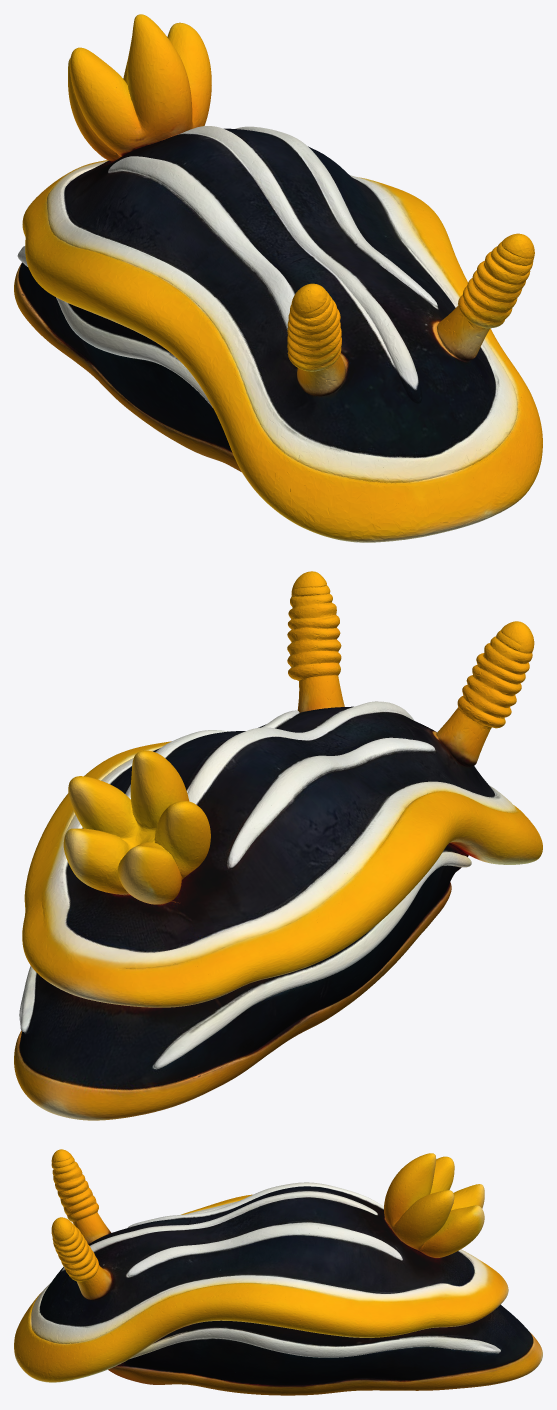
File: nudi.glb
The picture shows the model from 3 angles, top to bottom: view 1: azimuth 30°, elevation 25°; view 2: azimuth 150°, elevation 25°; view 3: azimuth 270°, elevation 25°; orthographic projection. The views are drawn at different scales.
Size of the model in its own units: 0.962 by 0.857 by 1.9.
Materials: 1 (1 with a texture image).
